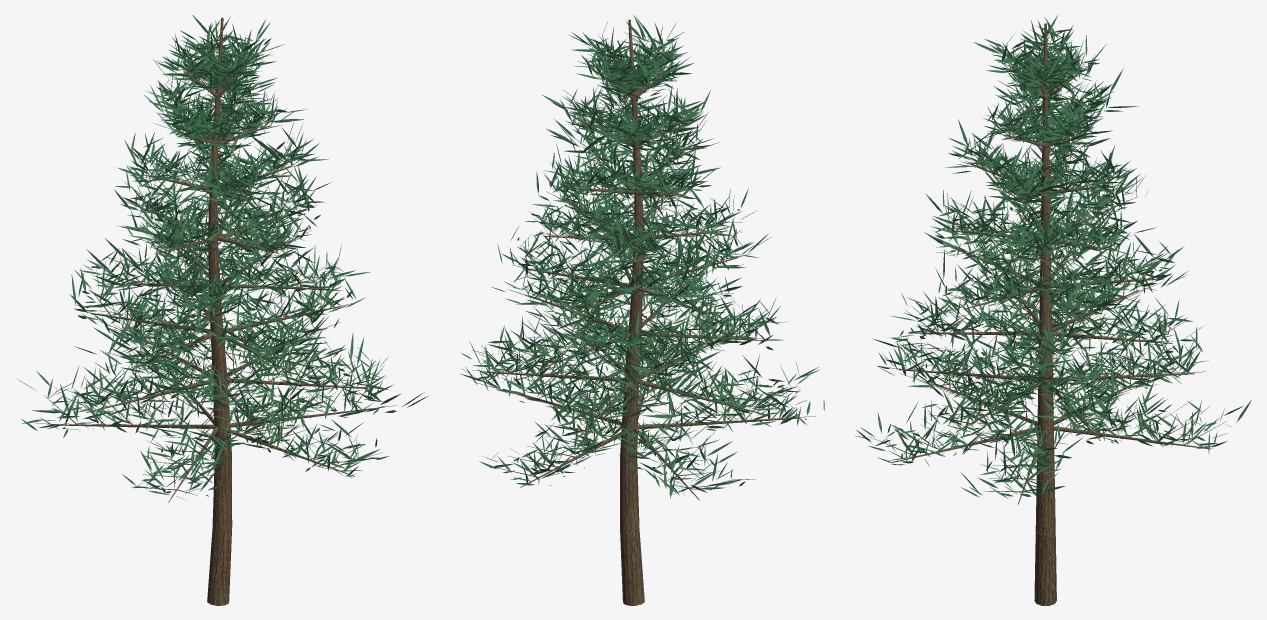
File: pine_1.glb
3 renders of one model, left to right at view 1: azimuth 30°, elevation 25°; view 2: azimuth 150°, elevation 25°; view 3: azimuth 270°, elevation 25°, orthographic.
Parts seen in each view (by area): view 1: pine_1; view 2: pine_1; view 3: pine_1.
Part boxes in pixels (x1,y1,x2,y2): pine_1: (18, 15, 427, 605); pine_1: (461, 15, 824, 605); pine_1: (855, 15, 1251, 605).
Bounding box in the file's own units: 7.39 × 12.51 × 7.81.
2 materials, 1 textured.
